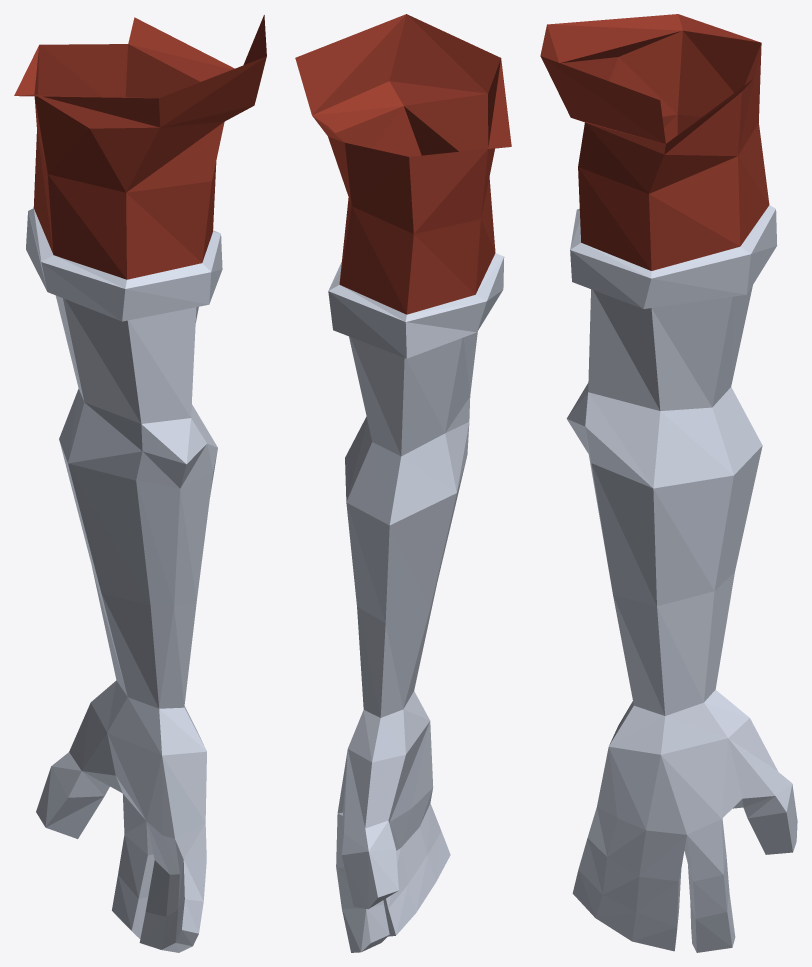
File: ArmR.obj
The picture shows the model from 3 angles, left to right: view 1: azimuth 30°, elevation 25°; view 2: azimuth 150°, elevation 25°; view 3: azimuth 270°, elevation 25°; orthographic projection. The views are drawn at different scales.
Bounding box in the file's own units: 0.2291 × 0.8441 × 0.215.
1 material, 1 textured.
